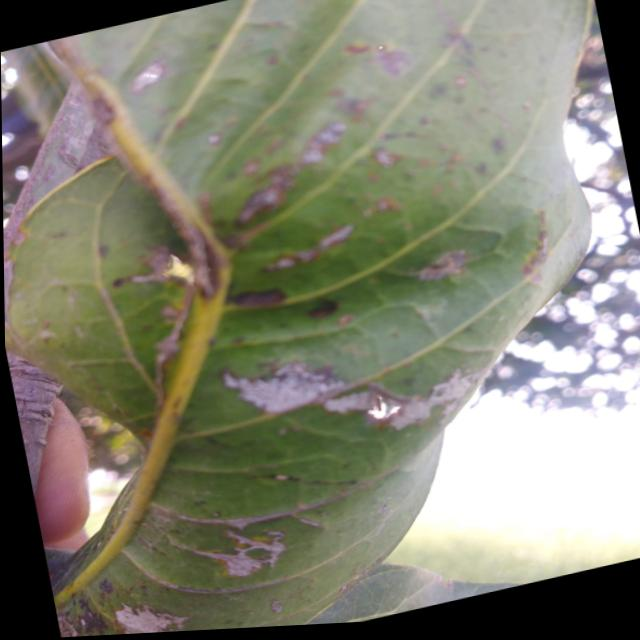Powdery Mildew: (246, 366, 382, 438), (198, 517, 296, 586), (416, 248, 479, 292)
